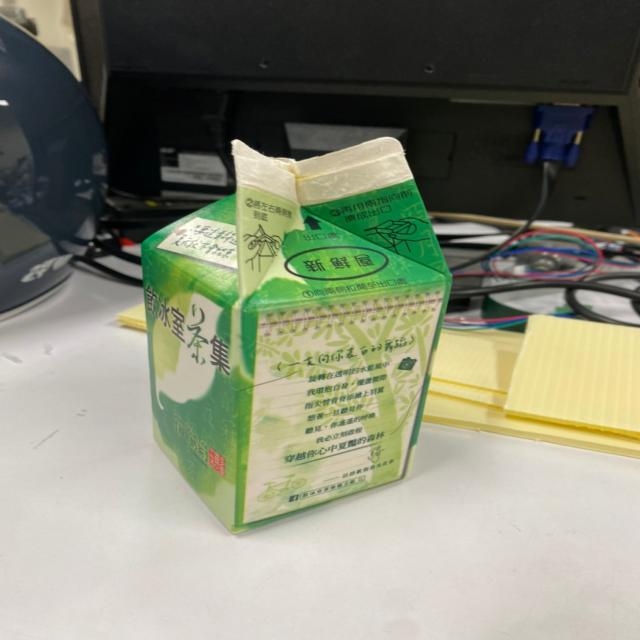non_white_jug: (112, 126, 461, 551)
